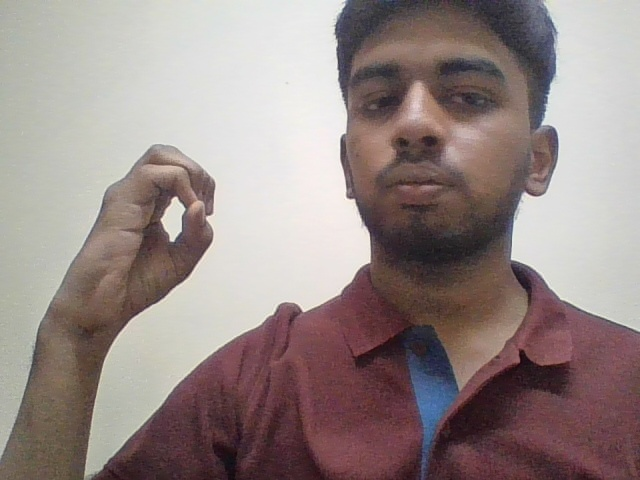O: (38, 115, 238, 348)
